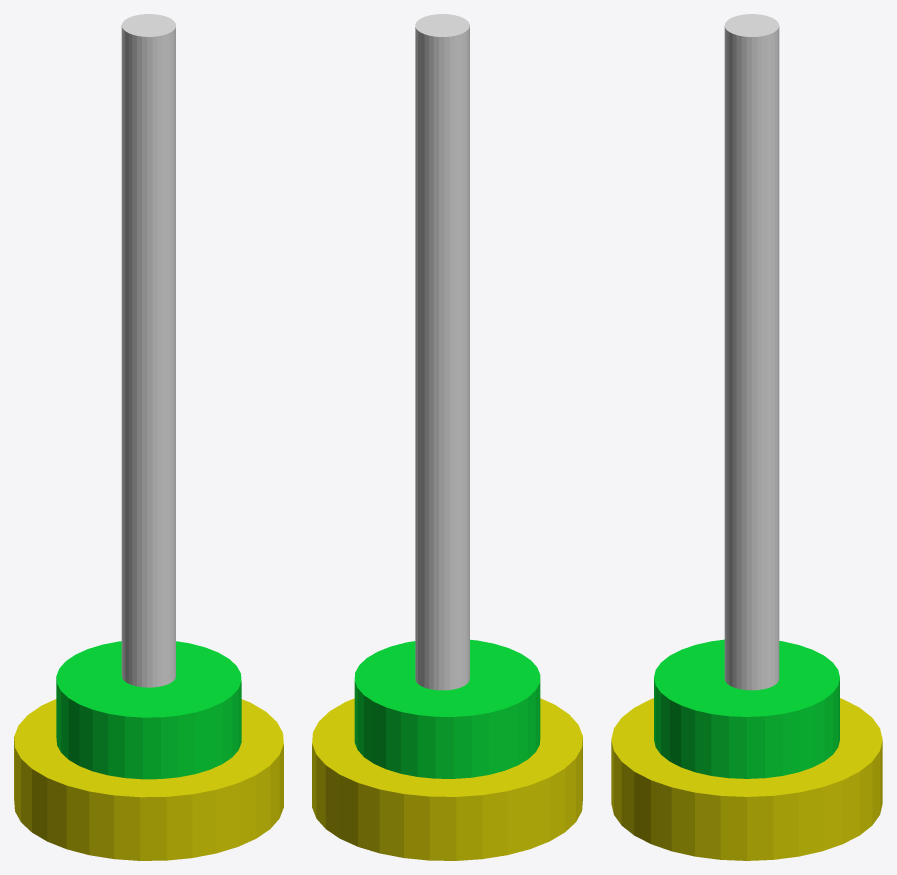
File: Towers of Hanoi 2 ring top second.fbx
The picture shows the model from 3 angles, left to right: view 1: azimuth 30°, elevation 25°; view 2: azimuth 150°, elevation 25°; view 3: azimuth 270°, elevation 25°; orthographic projection.
Visible parts, largest first — view 1: Cylinder, Cylinder.003, Cylinder.004; view 2: Cylinder, Cylinder.003, Cylinder.004; view 3: Cylinder, Cylinder.003, Cylinder.004.
Part boxes in pixels (<box>): Cylinder: <box>121,14,175,687</box>; Cylinder.003: <box>14,699,283,860</box>; Cylinder.004: <box>56,641,241,779</box>; Cylinder: <box>415,14,469,690</box>; Cylinder.003: <box>312,698,582,860</box>; Cylinder.004: <box>354,639,540,778</box>; Cylinder: <box>724,14,779,690</box>; Cylinder.003: <box>611,698,882,860</box>; Cylinder.004: <box>654,639,839,778</box>.
Bounding box in the file's own units: 160 × 507 × 160.
